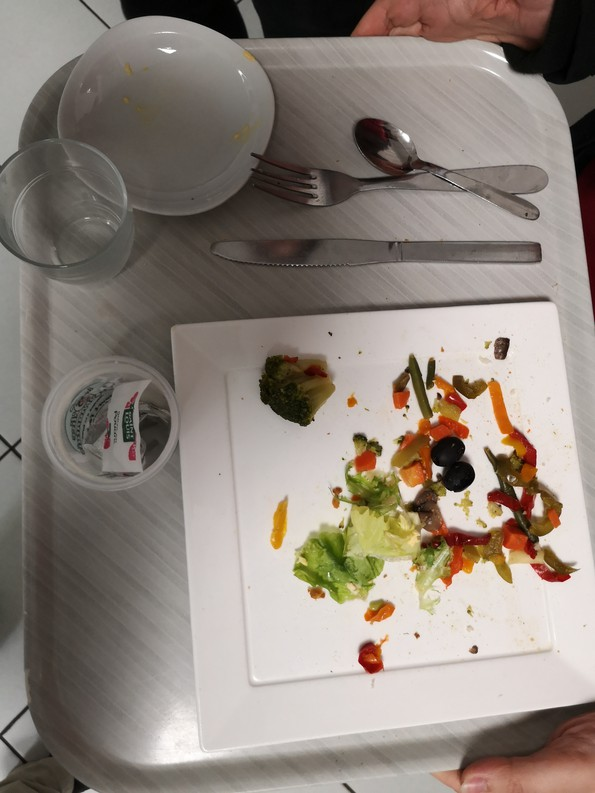cup: (1, 149, 147, 297)
cutlery: (238, 125, 555, 213), (181, 231, 557, 275)
orga: (374, 357, 573, 607), (307, 453, 381, 622), (252, 339, 349, 432)
trash: (29, 343, 194, 518)
